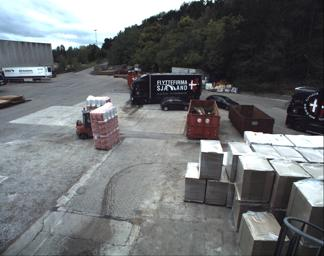rockwool_batts: (89, 100, 118, 147), (86, 91, 112, 117)
